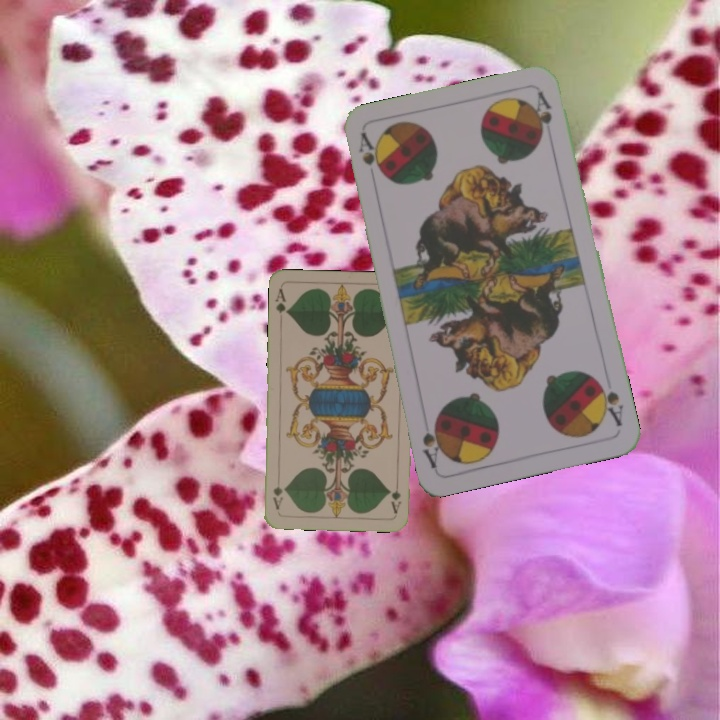GA: (271, 285, 291, 324), (387, 476, 403, 516)
SA: (592, 374, 626, 429), (354, 129, 383, 176)
